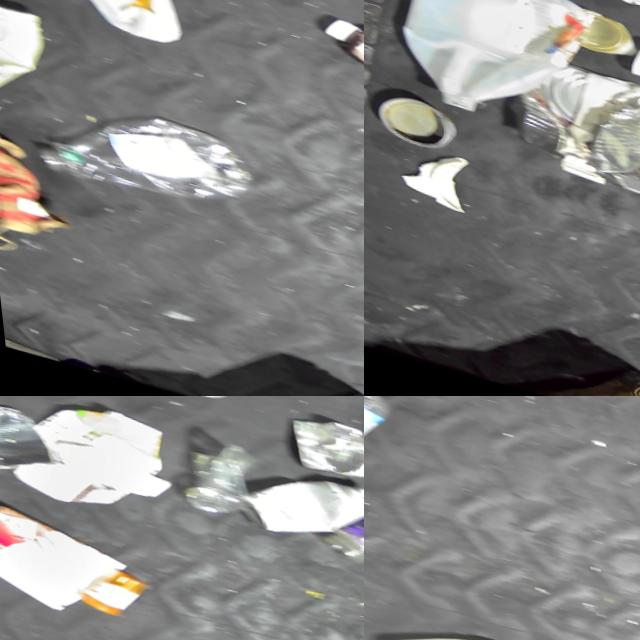can: (486, 45, 640, 185), (221, 450, 364, 558), (269, 401, 364, 487), (364, 85, 458, 154), (0, 396, 60, 488), (306, 501, 364, 578), (568, 7, 639, 62)
milk_jug: (370, 0, 603, 138), (41, 0, 203, 49), (364, 608, 601, 640), (0, 0, 56, 110)
plastic_bottle: (18, 78, 267, 227), (167, 431, 255, 520)
